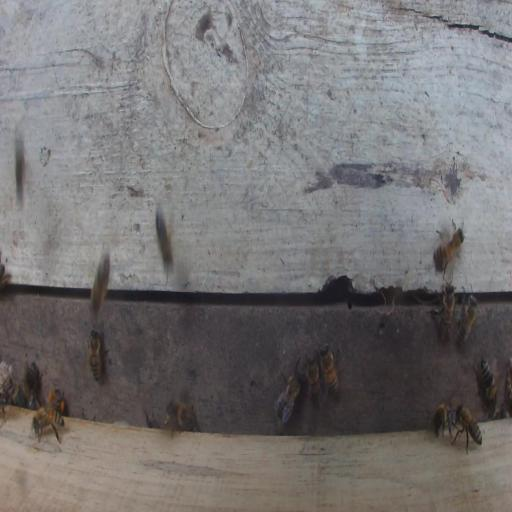nonpollenbee: (432, 217, 465, 280), (275, 357, 302, 426), (451, 404, 483, 455), (89, 248, 110, 320), (432, 281, 455, 343), (31, 407, 65, 444), (457, 289, 478, 347), (164, 400, 196, 436), (157, 202, 173, 272), (319, 342, 339, 396), (476, 357, 497, 402), (87, 329, 103, 383), (24, 360, 41, 408), (306, 357, 322, 407), (432, 402, 454, 438)
pollenbee: (49, 388, 65, 412)
